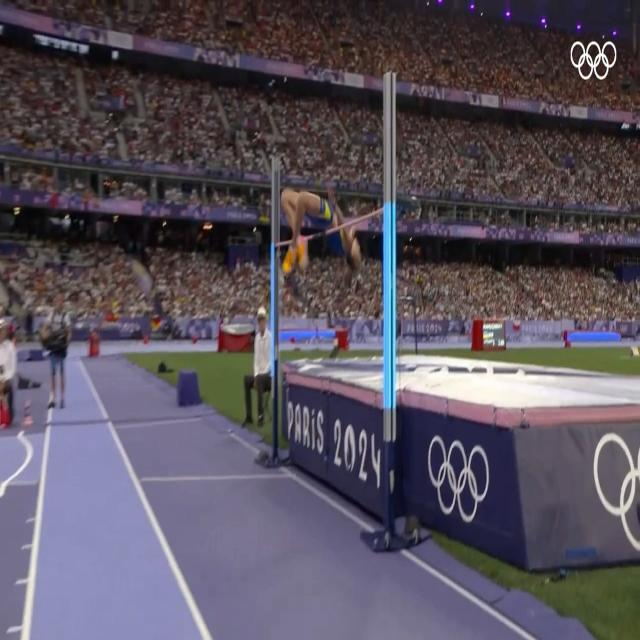jump: (280, 187, 361, 275)
